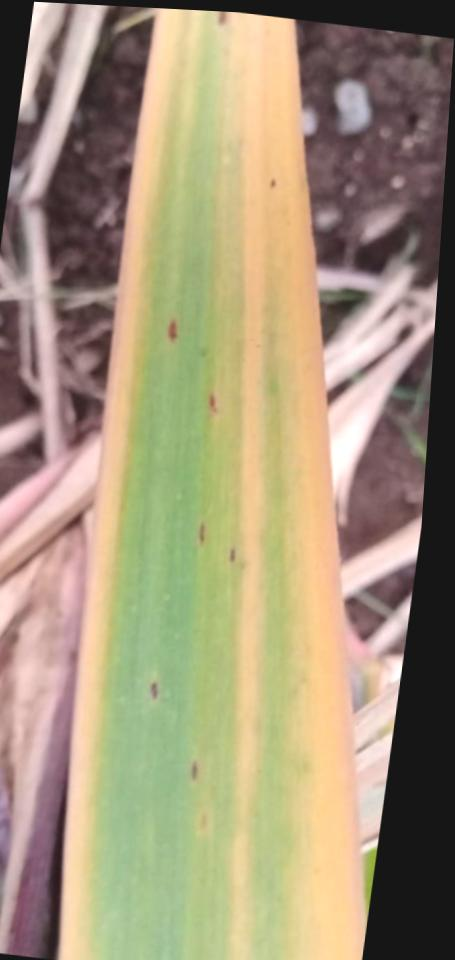Rust: (163, 313, 180, 343), (144, 678, 162, 704), (185, 755, 201, 784), (204, 388, 220, 416), (194, 519, 208, 548), (213, 11, 230, 28), (265, 174, 279, 192), (226, 545, 238, 563)
Yellow: (227, 13, 364, 960), (58, 8, 183, 960), (183, 12, 240, 960), (125, 9, 207, 504)
